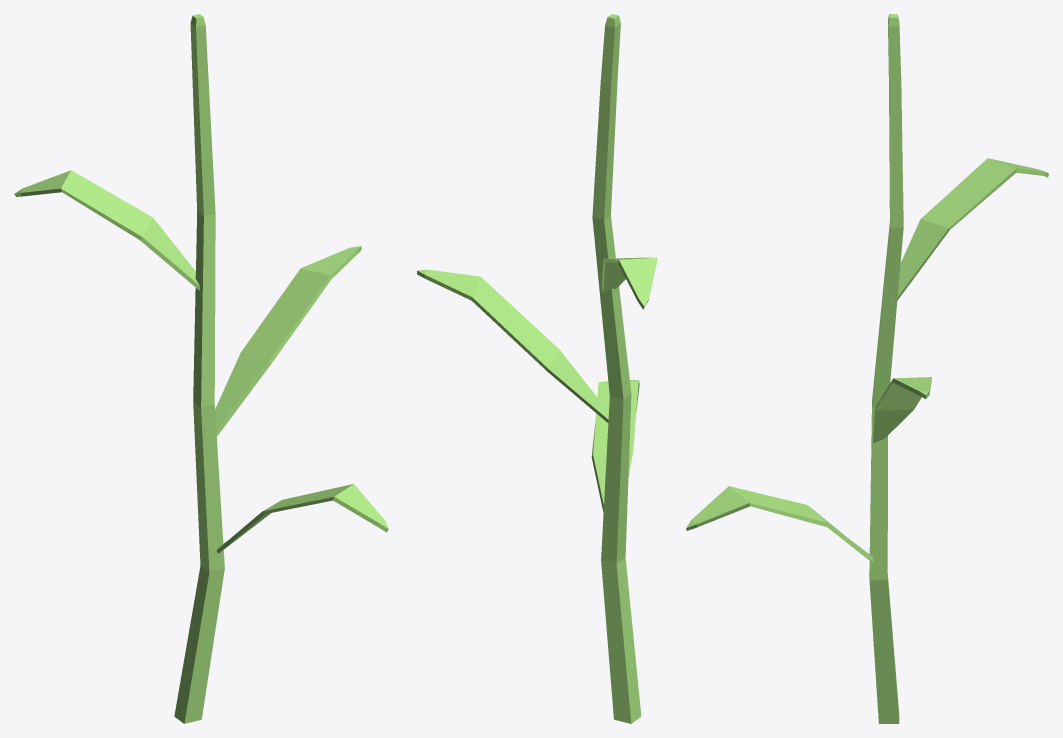
Rendered from corn_2.glb.
3 views of the same model, side by side, from view 1: azimuth 30°, elevation 25°; view 2: azimuth 150°, elevation 25°; view 3: azimuth 270°, elevation 25° (orthographic).
Visible parts, largest first — view 1: Corn_2; view 2: Corn_2; view 3: Corn_2.
Boxes of the visible parts, x1=… form: Corn_2: x1=14, y1=14, x2=388, y2=723; Corn_2: x1=417, y1=14, x2=657, y2=723; Corn_2: x1=686, y1=14, x2=1048, y2=723.
Bounding box in the file's own units: 0.2837 × 0.6587 × 0.3052.
